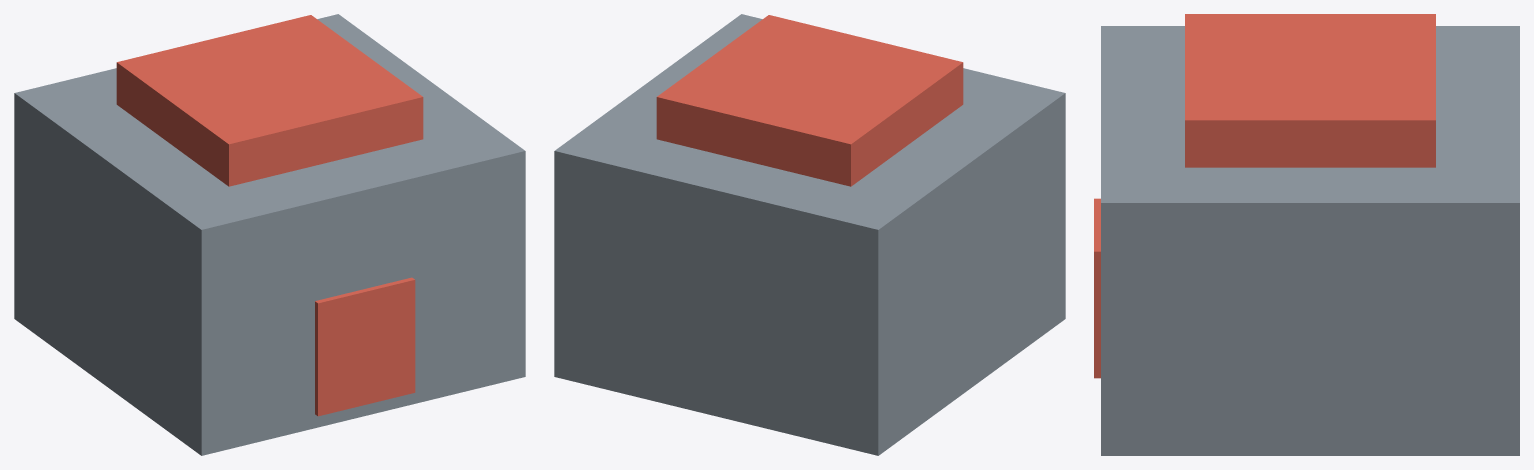
File: SU_PowerPlant_LOD0.glb
3 renders of one model, left to right at view 1: azimuth 30°, elevation 25°; view 2: azimuth 150°, elevation 25°; view 3: azimuth 270°, elevation 25°, orthographic. The views are drawn at different scales.
Parts seen in each view (by area): view 1: EntranceGate; view 2: EntranceGate; view 3: EntranceGate.
Part boxes in pixels (x1,y1,x2,y2): EntranceGate: (14,14,525,455); EntranceGate: (554,14,1065,455); EntranceGate: (1094,14,1519,455).
Bounding box in the file's own units: 600 × 475 × 610.
